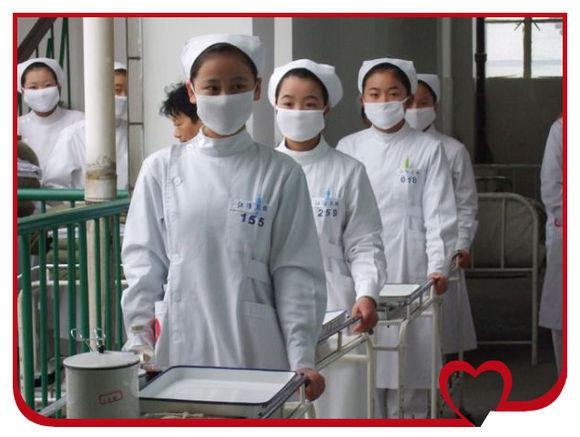NONE: (172, 119, 206, 151)
OK: (196, 71, 259, 135), (278, 90, 328, 141), (365, 82, 406, 128), (25, 74, 59, 113), (402, 95, 436, 132), (101, 81, 133, 119)
